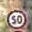limite 50: (5, 9, 26, 29)
